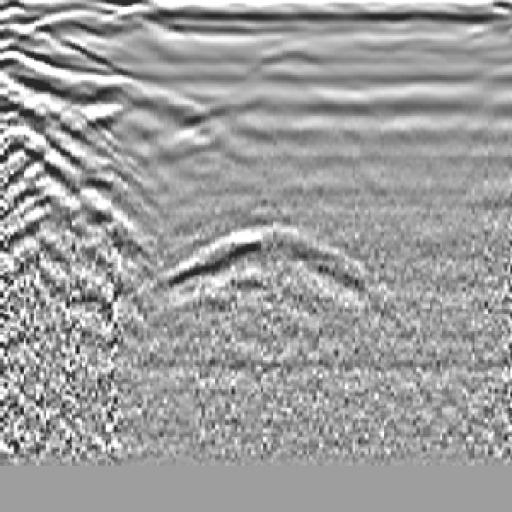non-metallic: (148, 218, 410, 346), (1, 17, 117, 267)
